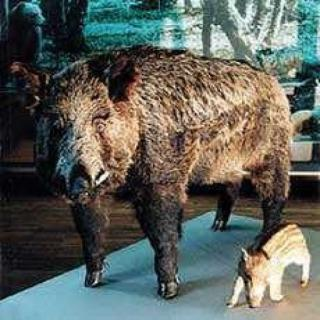Pig: (7, 26, 264, 267), (224, 213, 309, 308)
